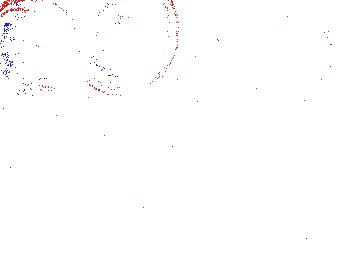moon jellyfish: (76, 1, 180, 97), (1, 1, 80, 92), (216, 1, 295, 86)
